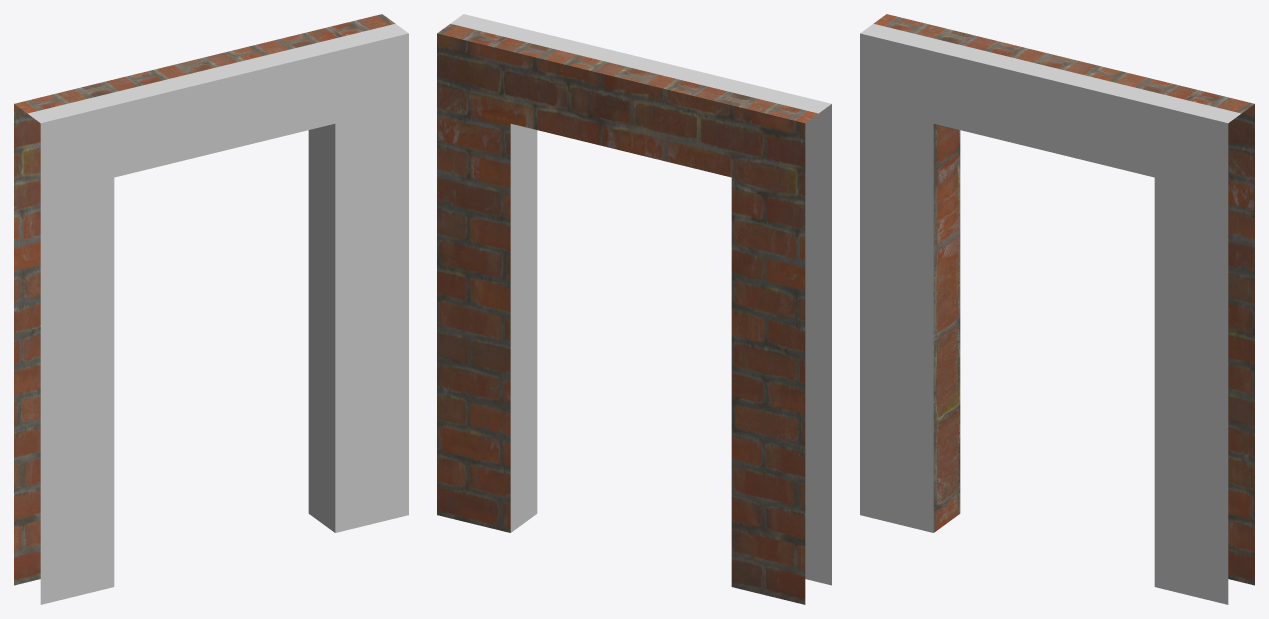
File: Wall_door_hole_incomplete.fbx
3 renders of one model, left to right at view 1: azimuth 30°, elevation 25°; view 2: azimuth 150°, elevation 25°; view 3: azimuth 330°, elevation 25°, orthographic.
Visible parts, largest first — view 1: Wall door hole; view 2: Wall door hole; view 3: Wall door hole.
Boxes of the visible parts, x1,y1,x2,y2 form: Wall door hole: (14, 14, 408, 604); Wall door hole: (437, 14, 831, 604); Wall door hole: (860, 14, 1254, 604).
Bounding box in the file's own units: 400 × 500 × 50.
